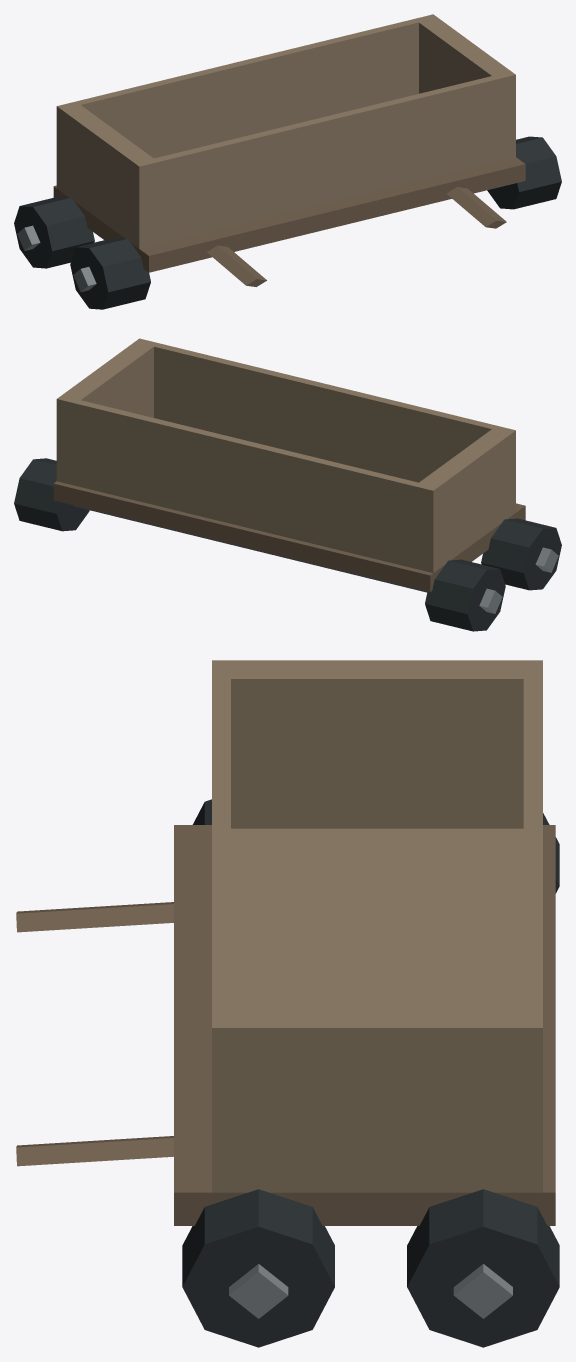
File: farm_cart.glb
3 renders of one model, top to bottom at view 1: azimuth 30°, elevation 25°; view 2: azimuth 150°, elevation 25°; view 3: azimuth 270°, elevation 25°, orthographic. The views are drawn at different scales.
Visible parts, largest first — view 1: farm_cart; view 2: farm_cart; view 3: farm_cart.
Boxes of the visible parts, x1,y1,x2,y2 form: farm_cart: (14, 14, 561, 309); farm_cart: (14, 338, 561, 631); farm_cart: (16, 660, 559, 1347).
Size of the model in its own units: 3.84 by 1.1 by 1.92.
